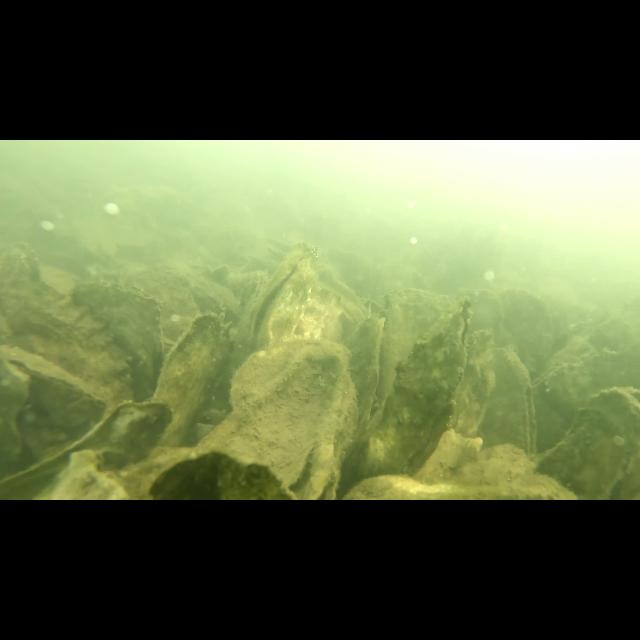Oyster-Closed: (0, 239, 136, 402), (0, 400, 170, 500), (536, 386, 640, 500), (71, 277, 171, 395), (152, 312, 224, 448), (0, 342, 112, 413), (146, 450, 292, 500), (530, 360, 592, 452), (489, 346, 536, 458), (454, 329, 494, 438)
Oyster-Open: (204, 348, 346, 500), (356, 294, 472, 480), (232, 243, 320, 361), (340, 308, 390, 439)
